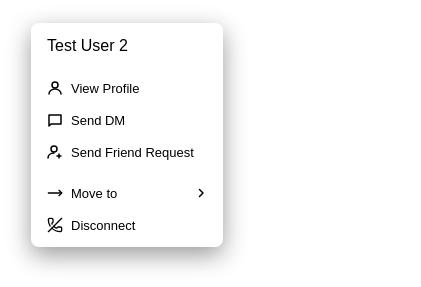
VoiceParticipantContextMenu › Move-to submenu lists only same-server voice channels except the current one
Click the button "Move to": (127, 193) [37,177,217,209]
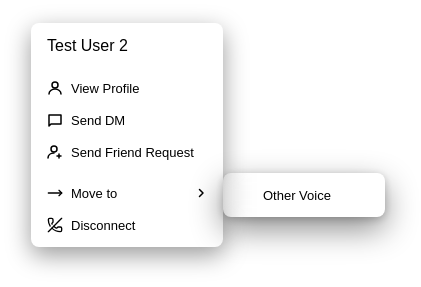
Check: the text "Other Voice" is shown, box [263,188,331,202]
